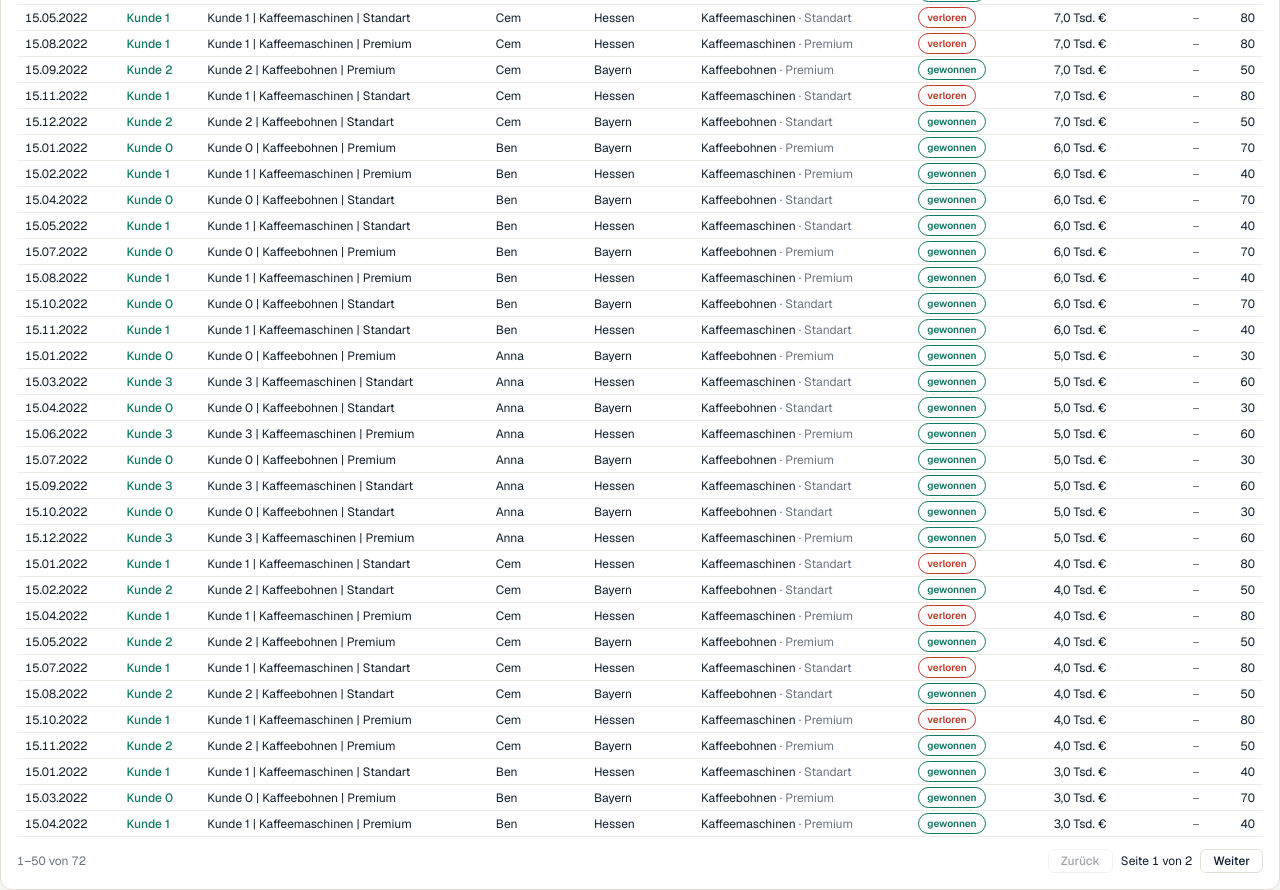
DealsPage › renders the analysis year with a pager and no NaN text
(page scrolled)
Check: the text "Seite 1 von 2" is shown, box x1=1121 y1=852 x2=1192 y2=870
Click the button "Weiter": (1232,861) x1=1200 y1=849 x2=1263 y2=873
(page scrolled)
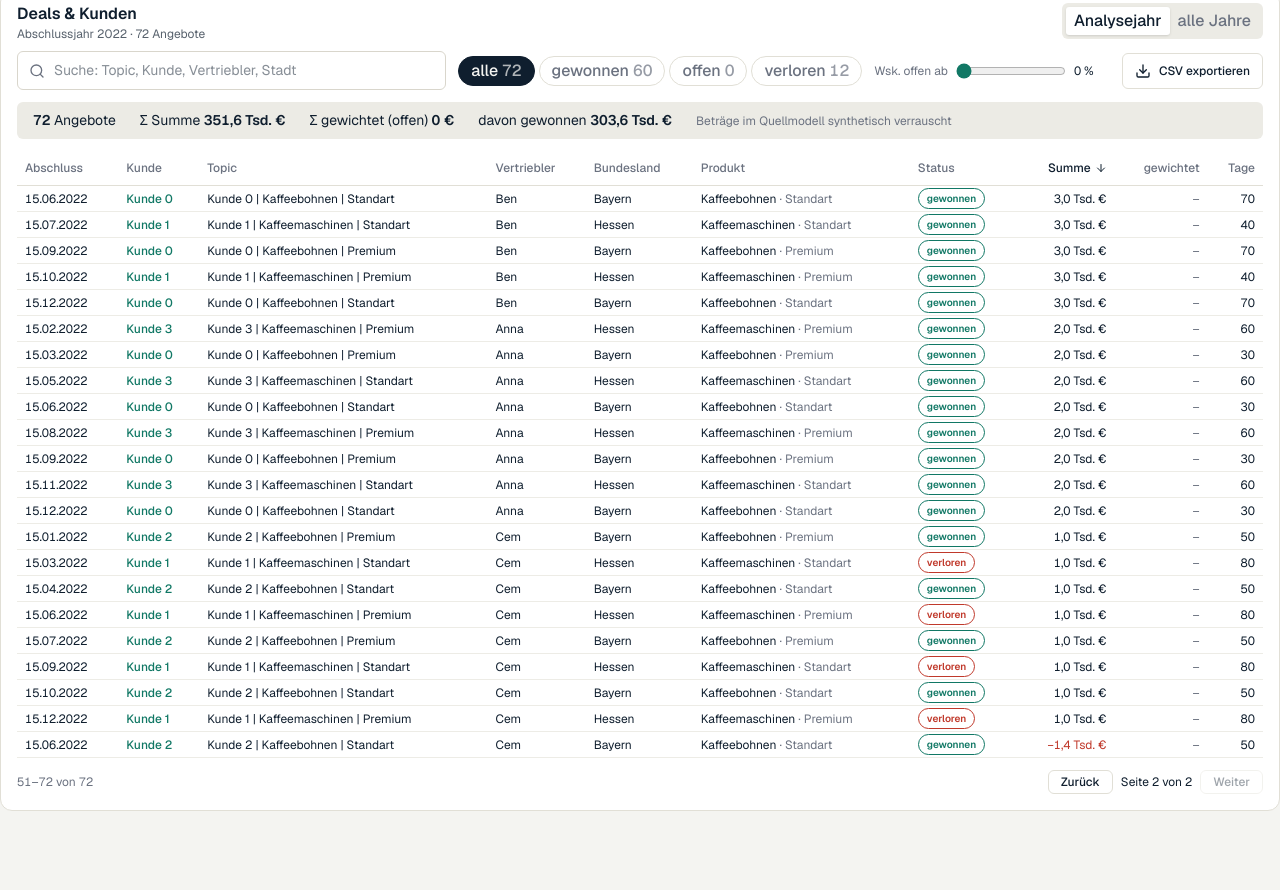
Check: the text "Seite 2 von 2" is shown, box x1=1121 y1=773 x2=1192 y2=791
